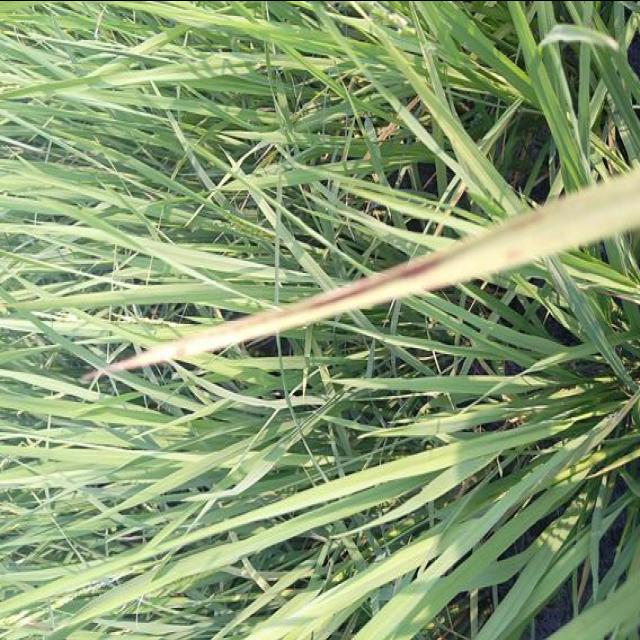Leaf Blight: (89, 164, 640, 377)
